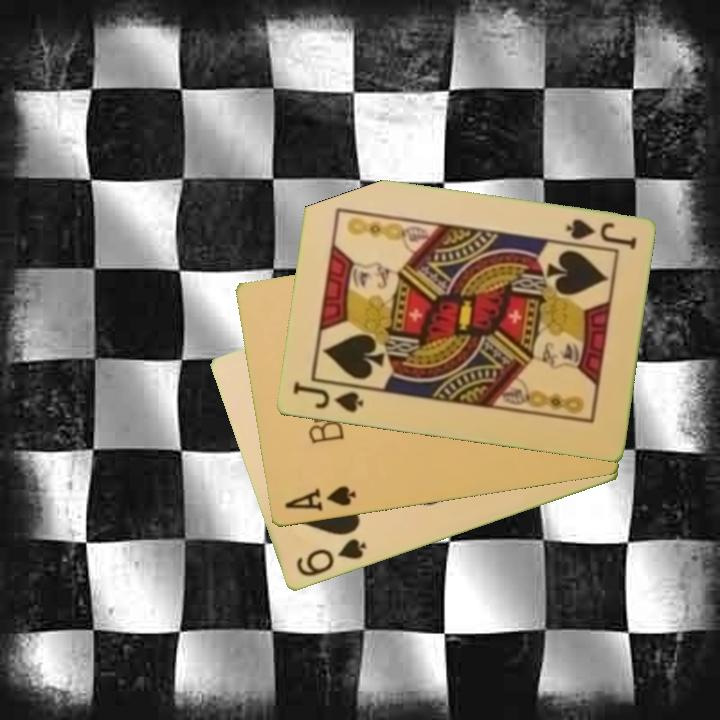6s: (292, 535, 369, 580)
As: (280, 482, 359, 516)
Js: (289, 378, 366, 416), (562, 216, 639, 254)
